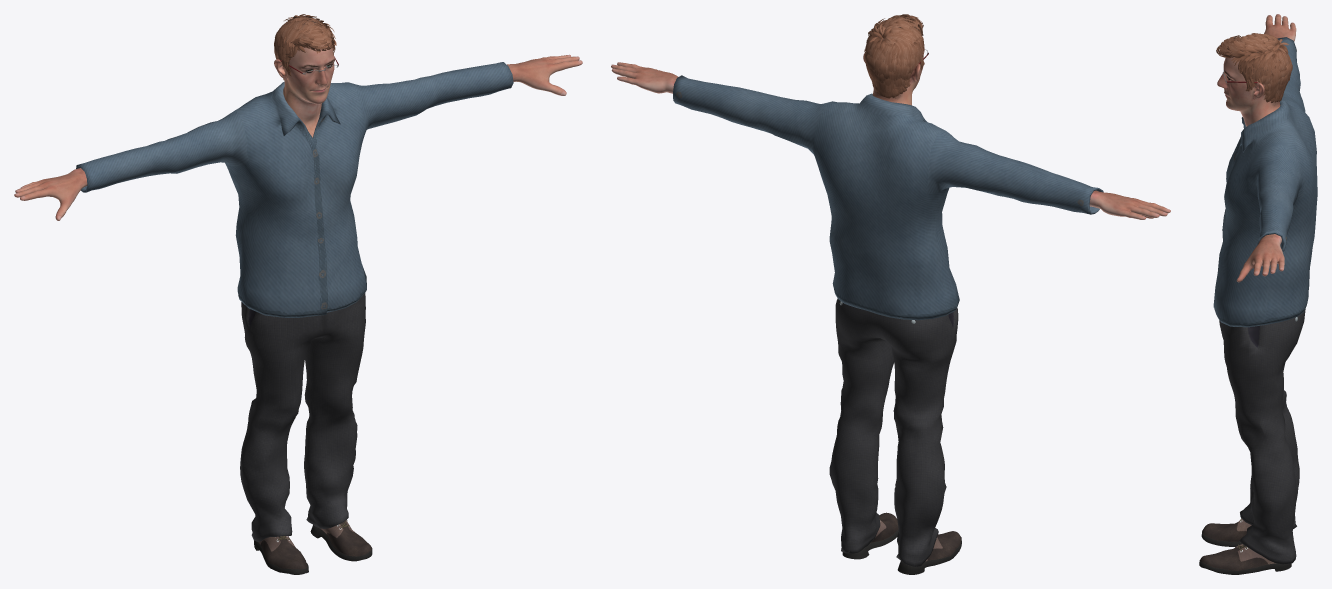
The model's file is Chad.obj.
The picture shows the model from 3 angles, left to right: view 1: azimuth 30°, elevation 25°; view 2: azimuth 150°, elevation 25°; view 3: azimuth 270°, elevation 25°; orthographic projection. The views are drawn at different scales.
Parts seen in each view (by area): view 1: Tops, Bottoms, Body, Shoes, Hair; view 2: Tops, Bottoms, Hair, Body, Shoes; view 3: Tops, Bottoms, Body, Hair, Shoes.
Part boxes in pixels (bbox=[...]): Tops: bbox=[76, 62, 513, 317]; Bottoms: bbox=[240, 293, 365, 541]; Body: bbox=[14, 19, 582, 220]; Shoes: bbox=[254, 520, 372, 574]; Hair: bbox=[274, 14, 336, 80]; Tops: bbox=[673, 75, 1103, 320]; Bottoms: bbox=[829, 298, 958, 566]; Hair: bbox=[864, 14, 924, 98]; Body: bbox=[611, 26, 1170, 219]; Shoes: bbox=[842, 512, 961, 574]; Tops: bbox=[1213, 37, 1317, 327]; Bottoms: bbox=[1219, 309, 1305, 564]; Body: bbox=[1217, 14, 1296, 282]; Hair: bbox=[1216, 33, 1292, 102]; Shoes: bbox=[1199, 518, 1293, 574].
Bounding box in the file's own units: 193 × 176 × 36.26.
6 materials, 6 textured.
